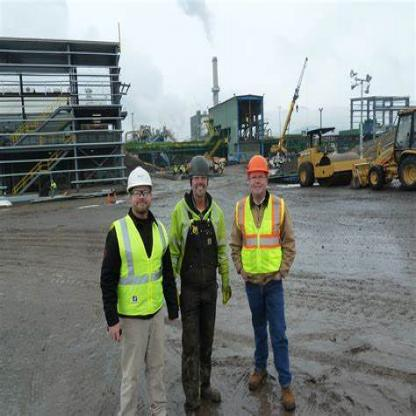person: (234, 140, 311, 414), (98, 157, 176, 415), (172, 136, 233, 411)
